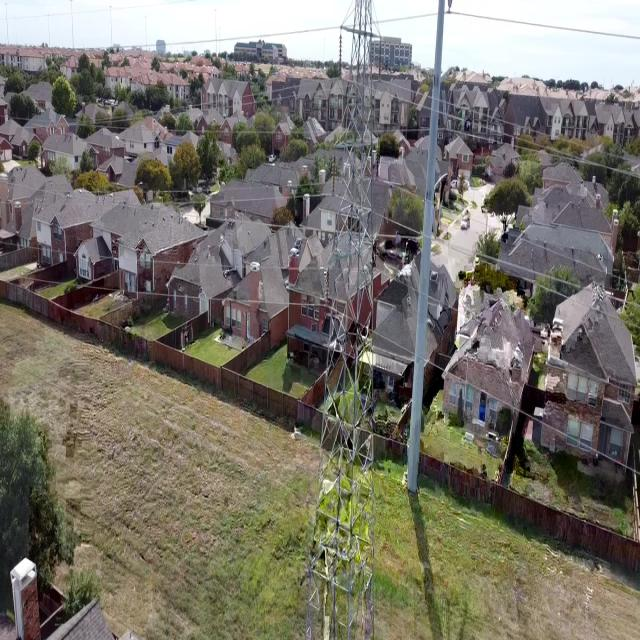杆塔: (299, 0, 379, 640)
正常绝缘子: (332, 24, 348, 83), (327, 148, 340, 203), (375, 36, 387, 86), (323, 264, 332, 314)
